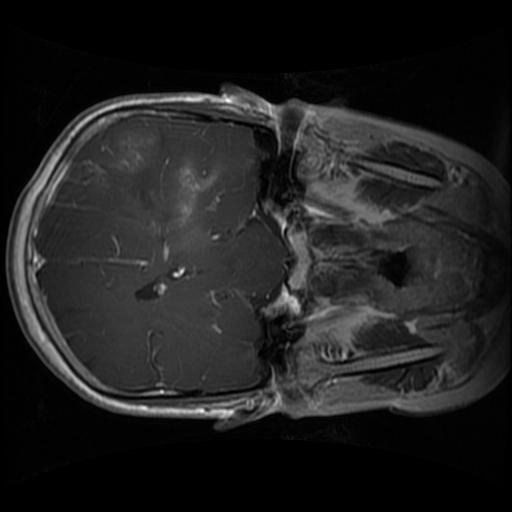glioma: (126, 155, 220, 255)
